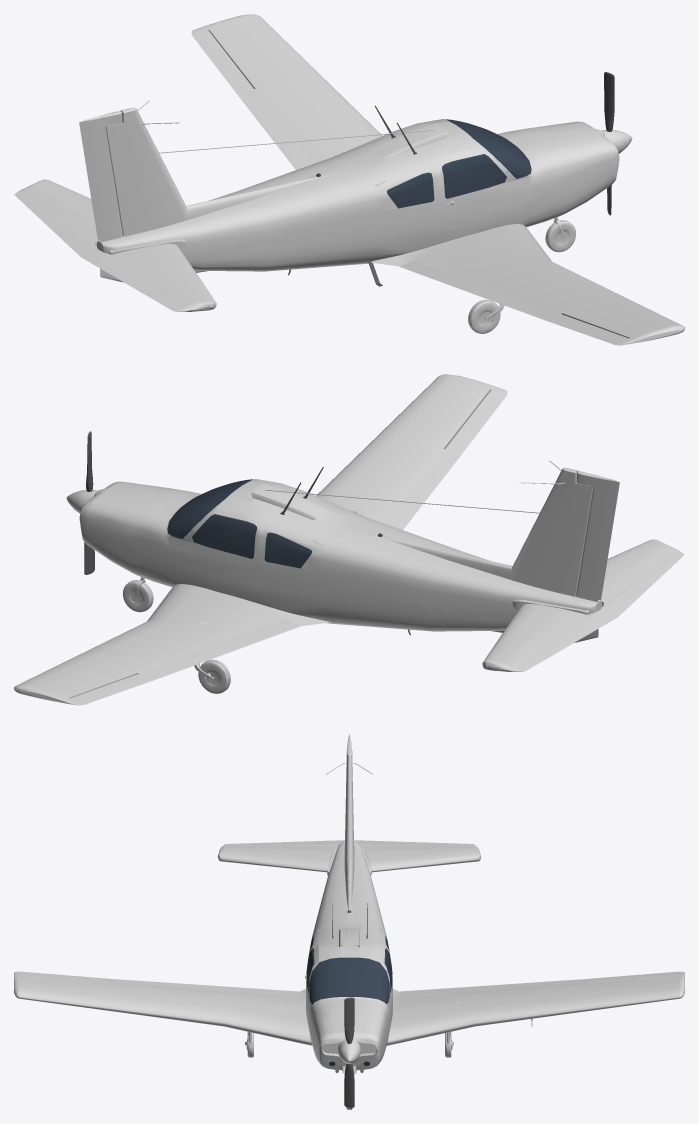
The picture shows the model from 3 angles, top to bottom: view 1: azimuth 30°, elevation 25°; view 2: azimuth 150°, elevation 25°; view 3: azimuth 270°, elevation 25°; orthographic projection. The views are drawn at different scales.
Visible parts, largest first — view 1: body, glass, spin; view 2: body, glass, spin; view 3: body, glass, spin.
Boxes of the visible parts, x1,y1,x2,y2 form: body: (14, 14, 684, 345); glass: (316, 119, 531, 208); spin: (604, 72, 614, 215); body: (14, 374, 684, 705); glass: (167, 479, 382, 568); spin: (84, 431, 94, 574); body: (14, 734, 684, 1109); glass: (306, 910, 392, 1065); spin: (344, 997, 354, 1107).
Bounding box in the file's own units: 1.63 × 0.7004 × 2.2.
